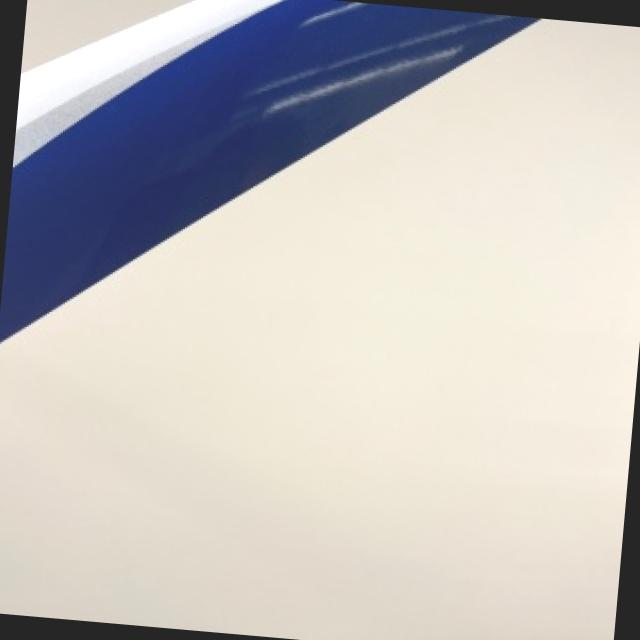healthy: (0, 0, 533, 335)
